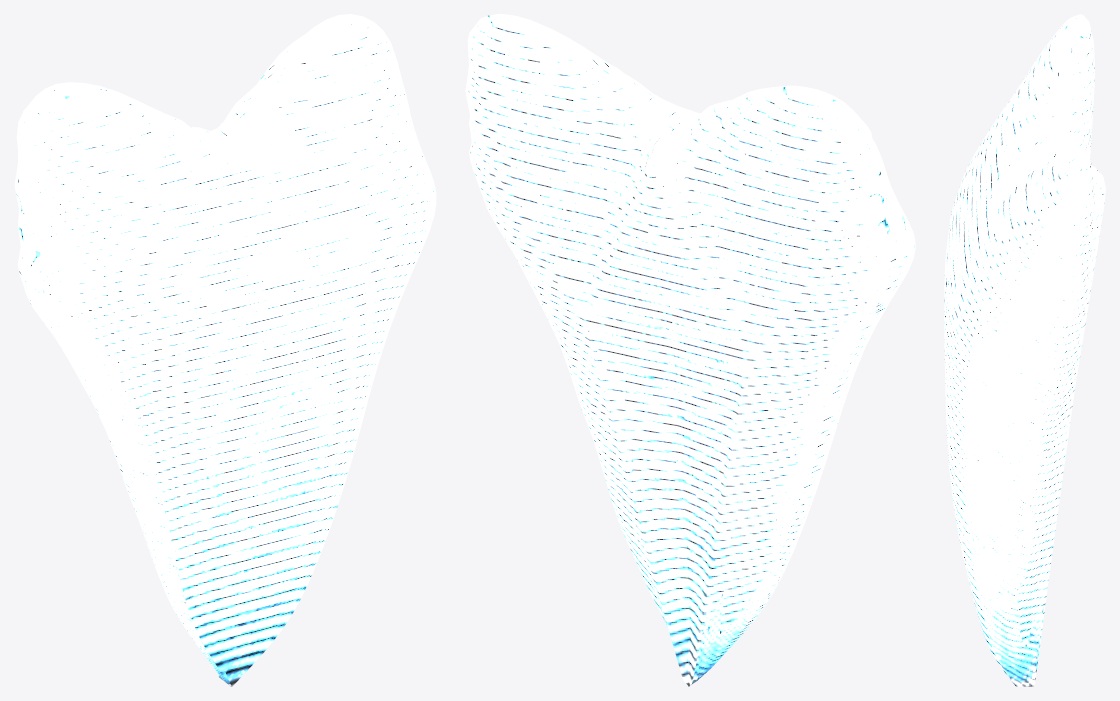
Rendered from WhiteSharkTooth.fbx.
3 renders of one model, left to right at view 1: azimuth 30°, elevation 25°; view 2: azimuth 150°, elevation 25°; view 3: azimuth 270°, elevation 25°, orthographic. The views are drawn at different scales.
Parts seen in each view (by area): view 1: SharkTooth.001; view 2: SharkTooth.001; view 3: SharkTooth.001.
Part boxes in pixels (<box>): SharkTooth.001: <box>14,14,436,686</box>; SharkTooth.001: <box>465,14,915,686</box>; SharkTooth.001: <box>944,14,1105,686</box>.
Bounding box in the file's own units: 82.71 × 120 × 29.24.
Materials: 1 (1 with a texture image).
